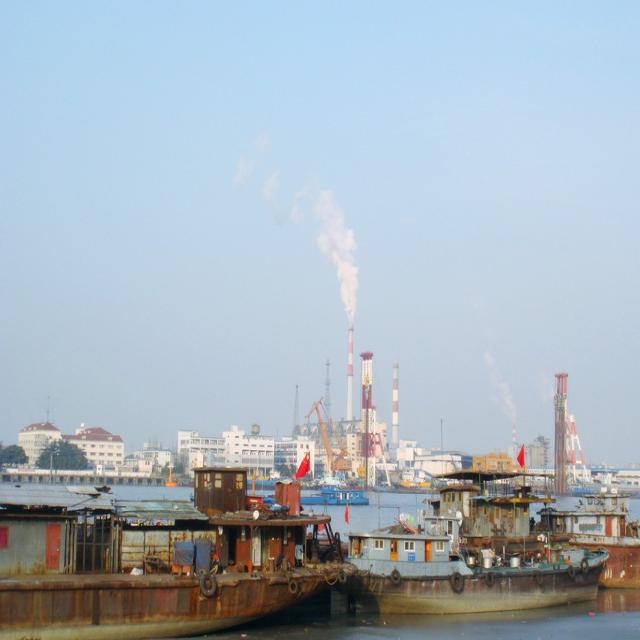fishing boat: (5, 437, 350, 640), (386, 495, 604, 629), (532, 489, 640, 581)
